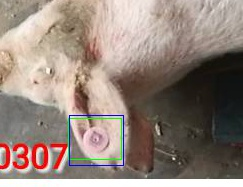text: (68, 118, 121, 159)
